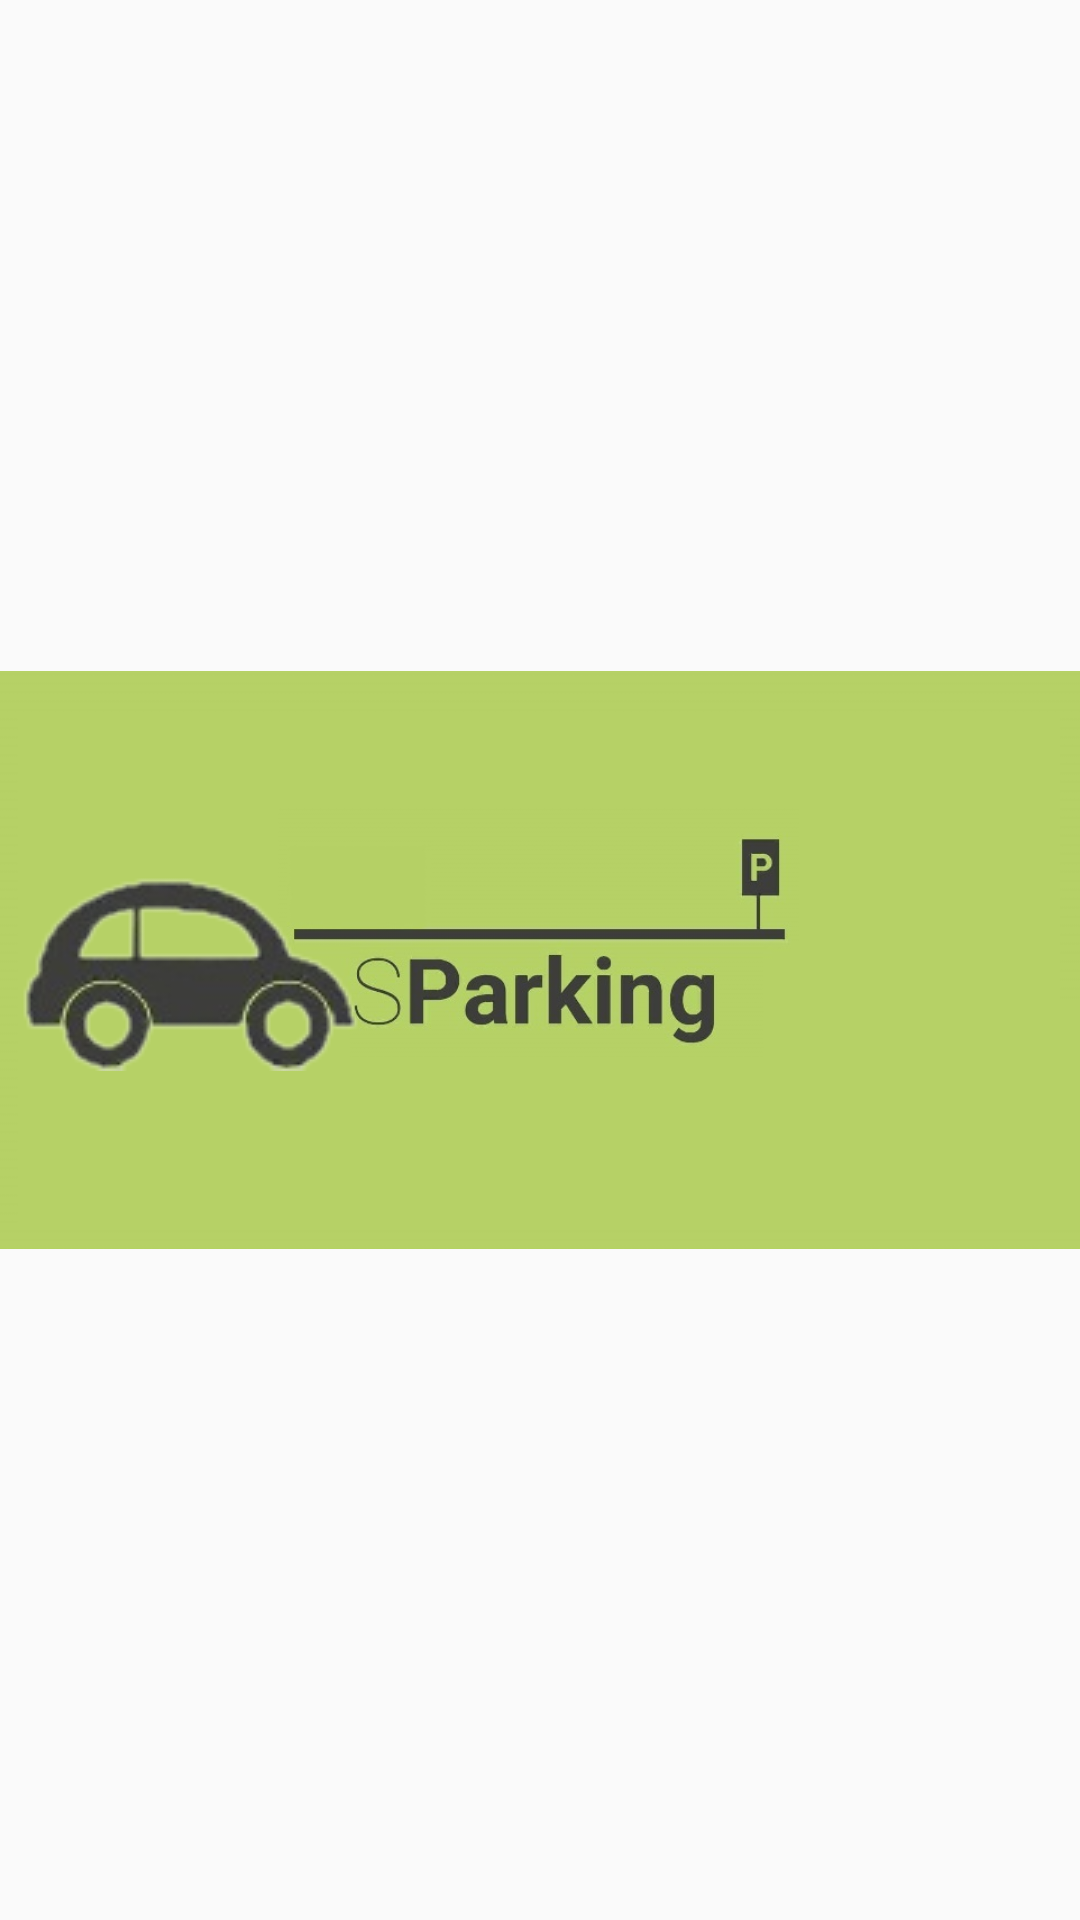

Named icons in this screenshot (1080px x 1920px) and their bounding boxes, (x1, y1, x2, y2):
car: (25, 880, 381, 1071)
